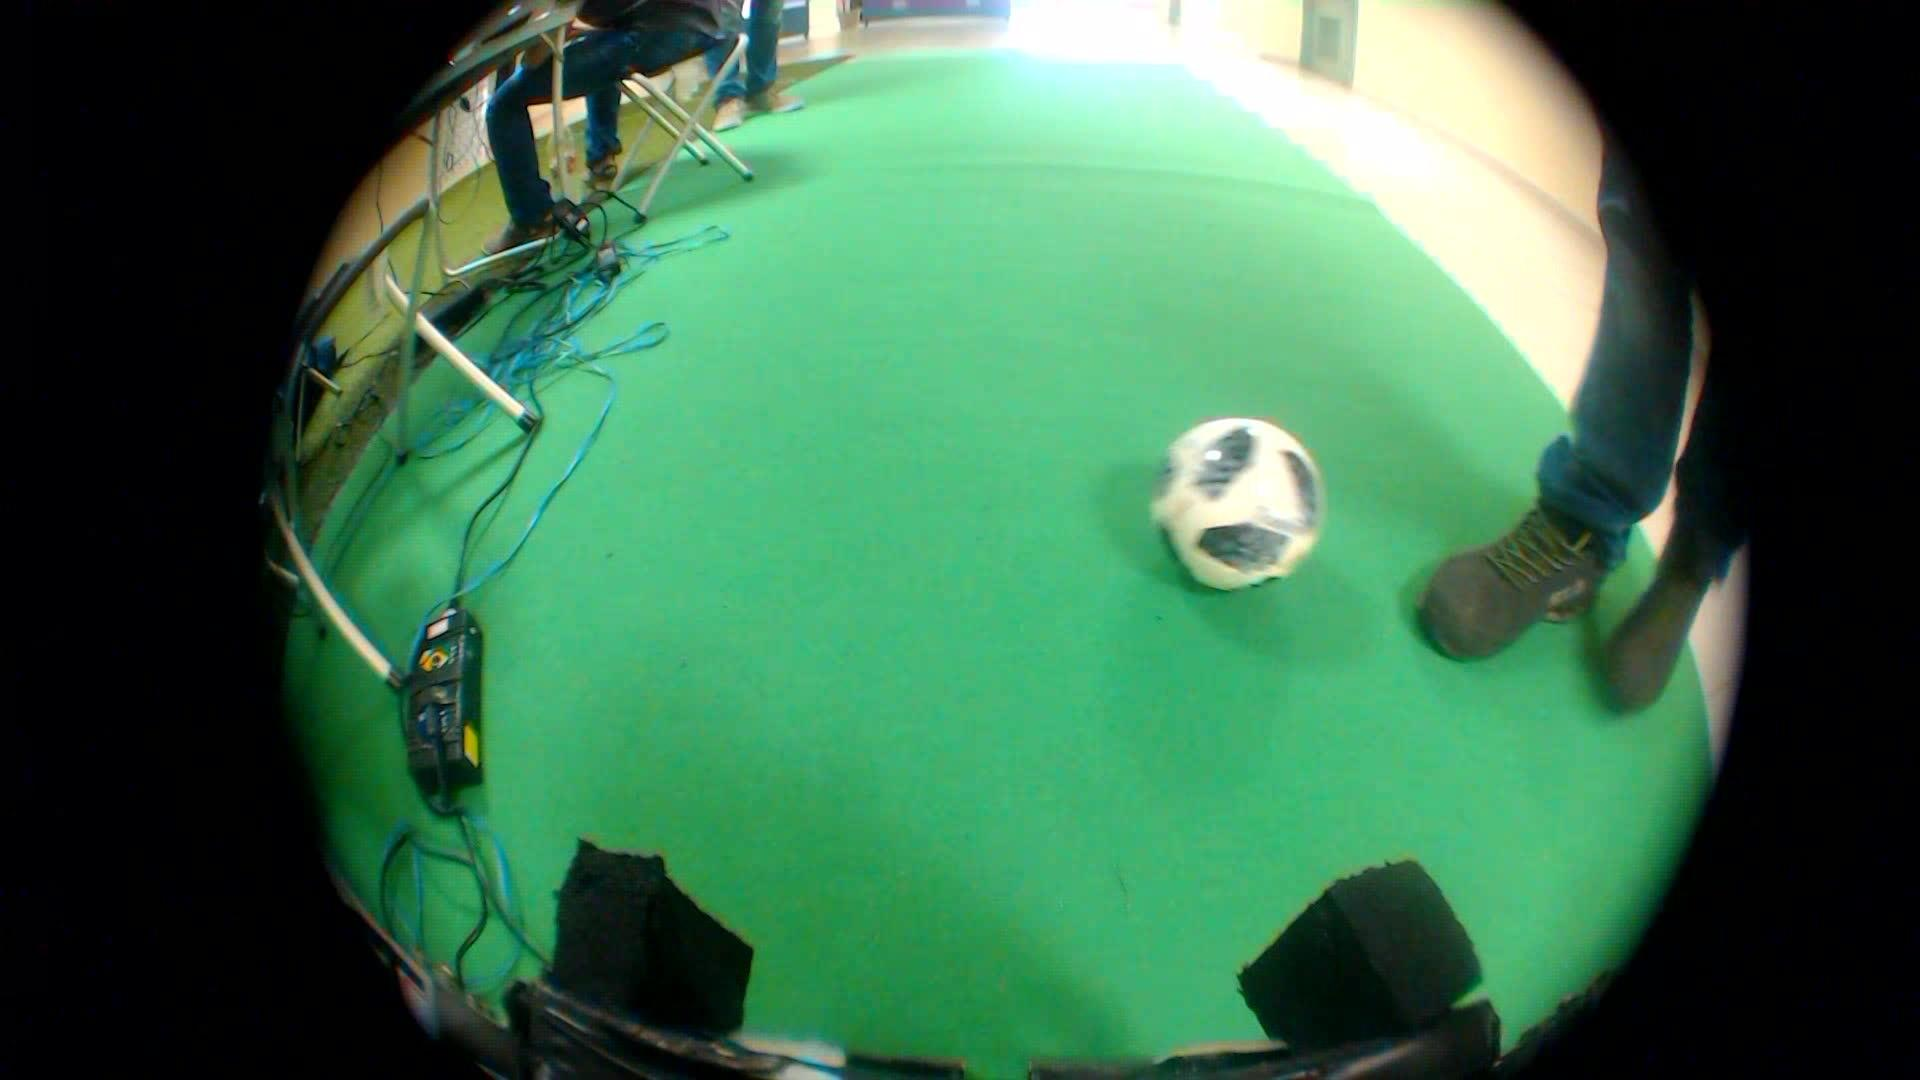ball: (1118, 394, 1360, 607)
